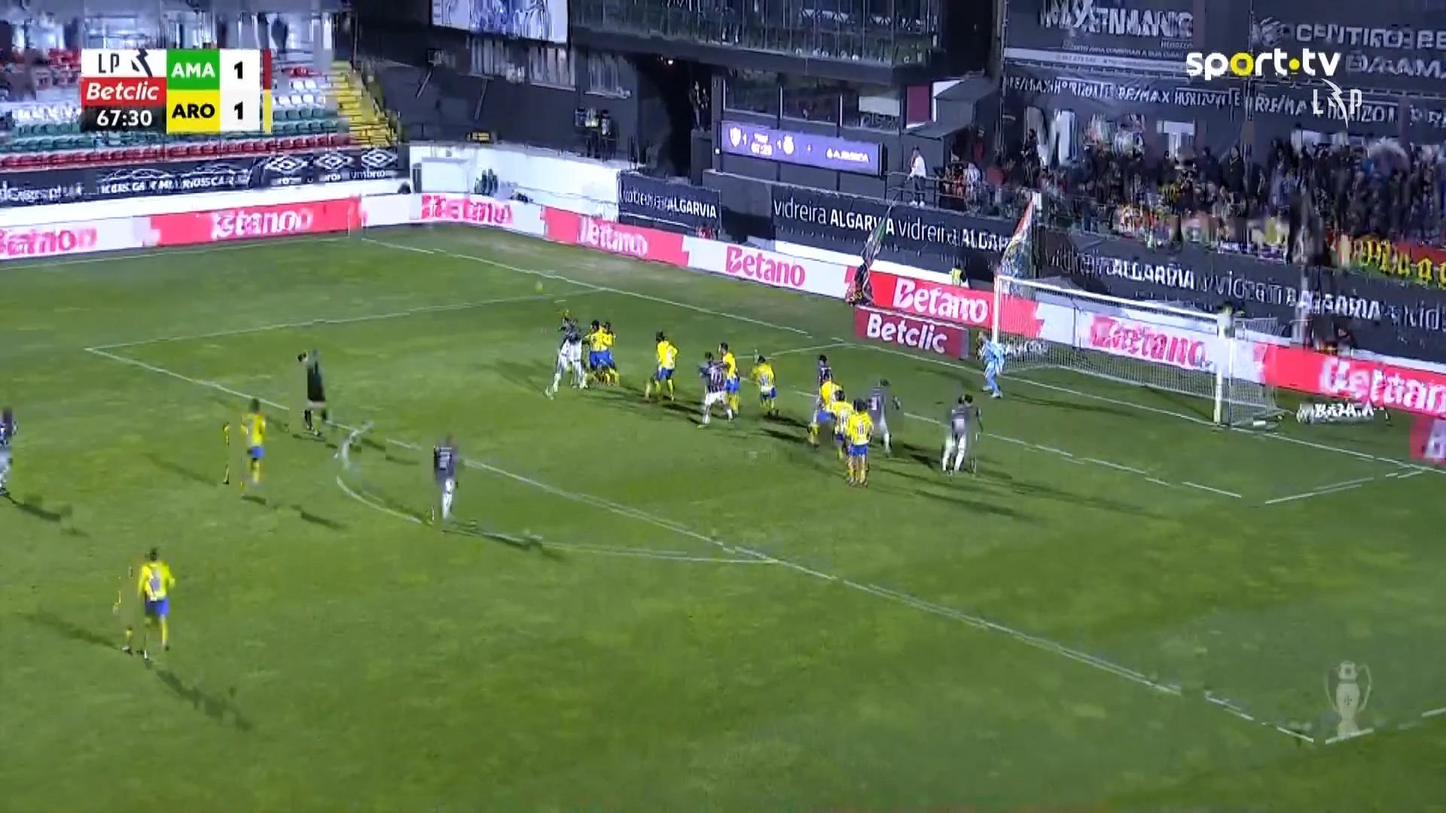ball: (533, 281, 542, 293)
goalkeeper: (975, 328, 1007, 398)
player: (114, 545, 175, 661), (543, 313, 587, 399), (940, 392, 983, 478), (695, 350, 734, 428), (841, 397, 874, 486), (865, 377, 900, 457), (806, 376, 845, 447), (430, 433, 460, 522), (583, 319, 620, 388), (643, 330, 678, 402), (239, 397, 267, 486), (749, 354, 779, 417), (716, 341, 741, 414), (0, 405, 18, 496)
referee: (296, 348, 332, 437)
